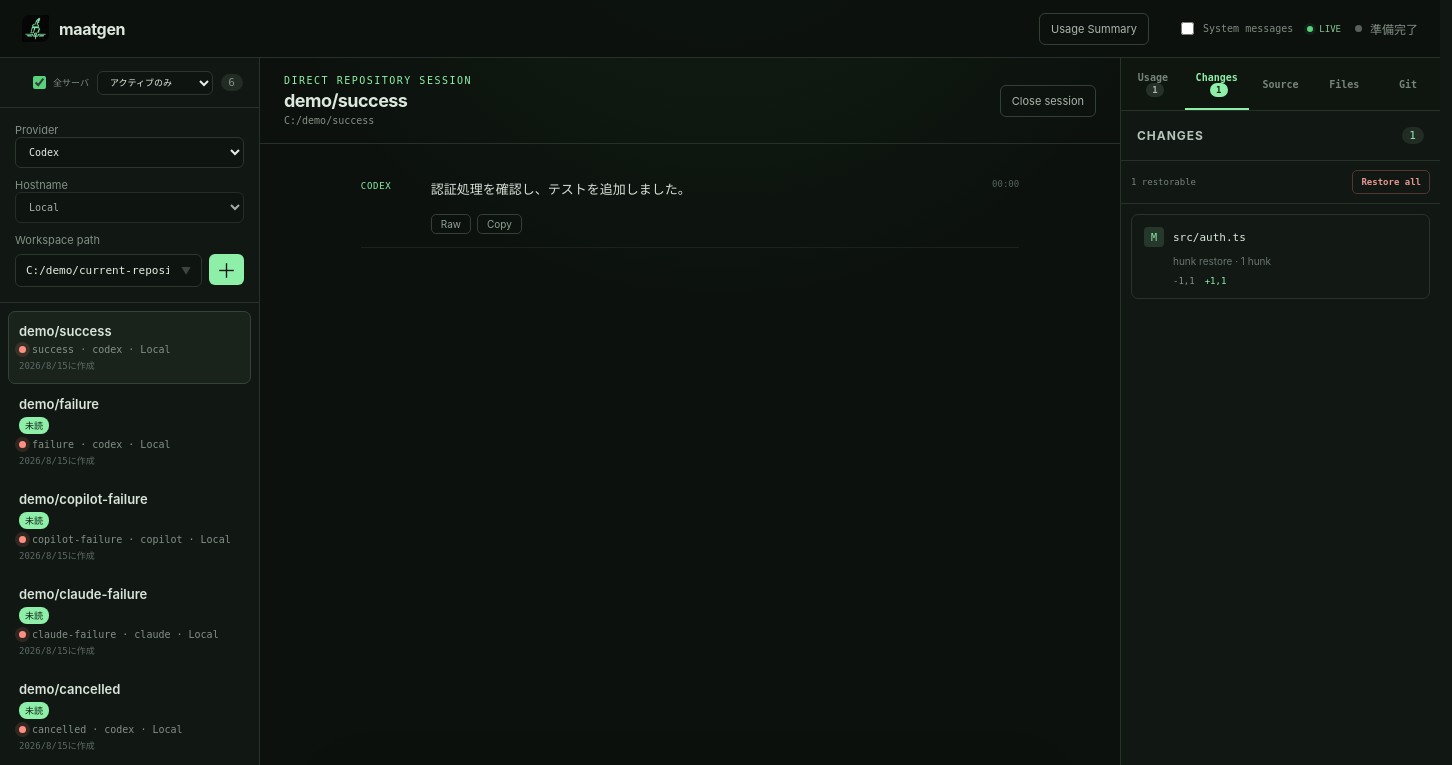
Scenario: App with MockAgentApi › shows a file tree in the Files tab and renders markdown files in the center pane
The width and height of the screenshot is (1452, 765).
Click the tab with id "files-tab". click: (1344, 84)
box: [1312,58,1376,110]
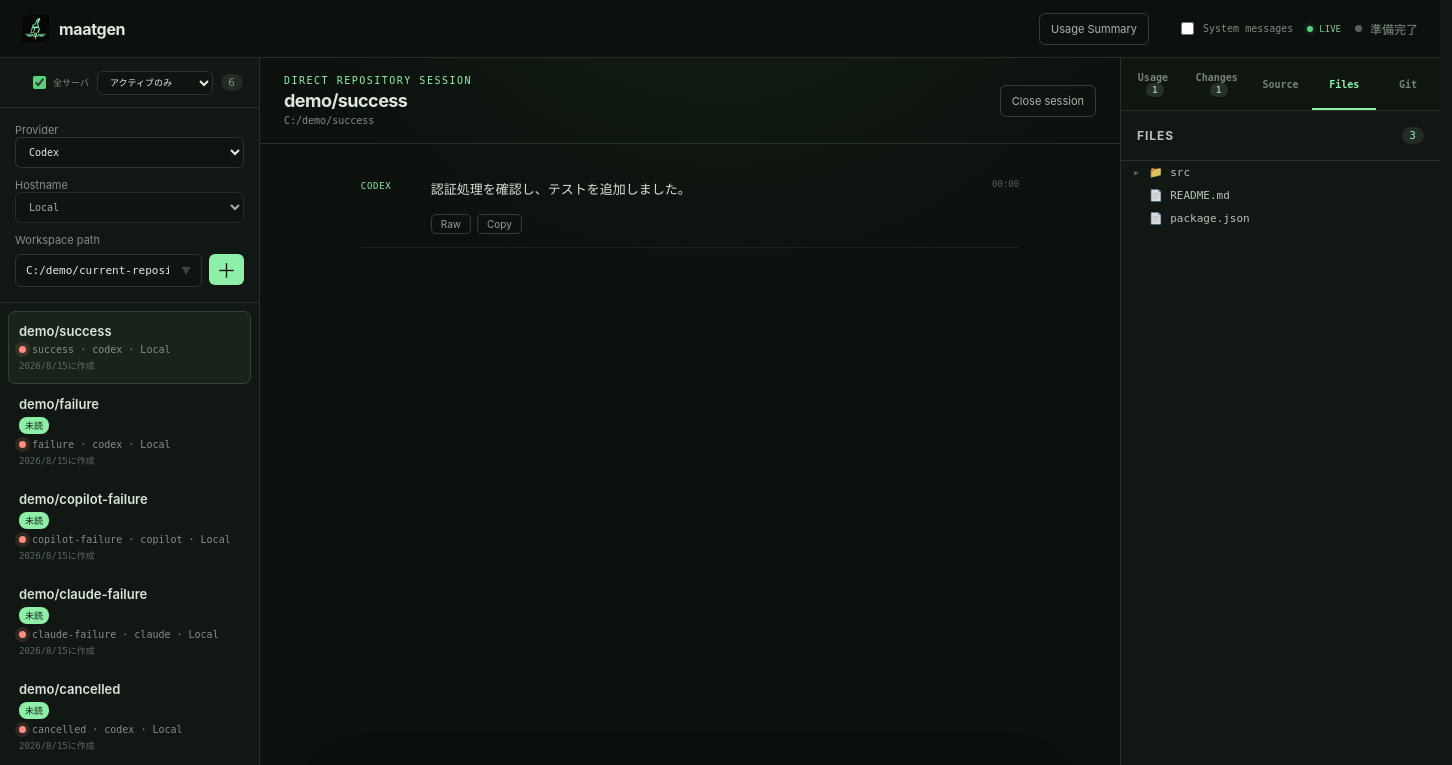
Expected: the panel with id "files-panel" is shown, [1121,111,1440,250]
Expected: the list with class "file-tree" shows "README.md"
Click the button with class "file-tree-file" showing "📄 README.md". click: (1200, 196)
box: [1127,184,1434,207]
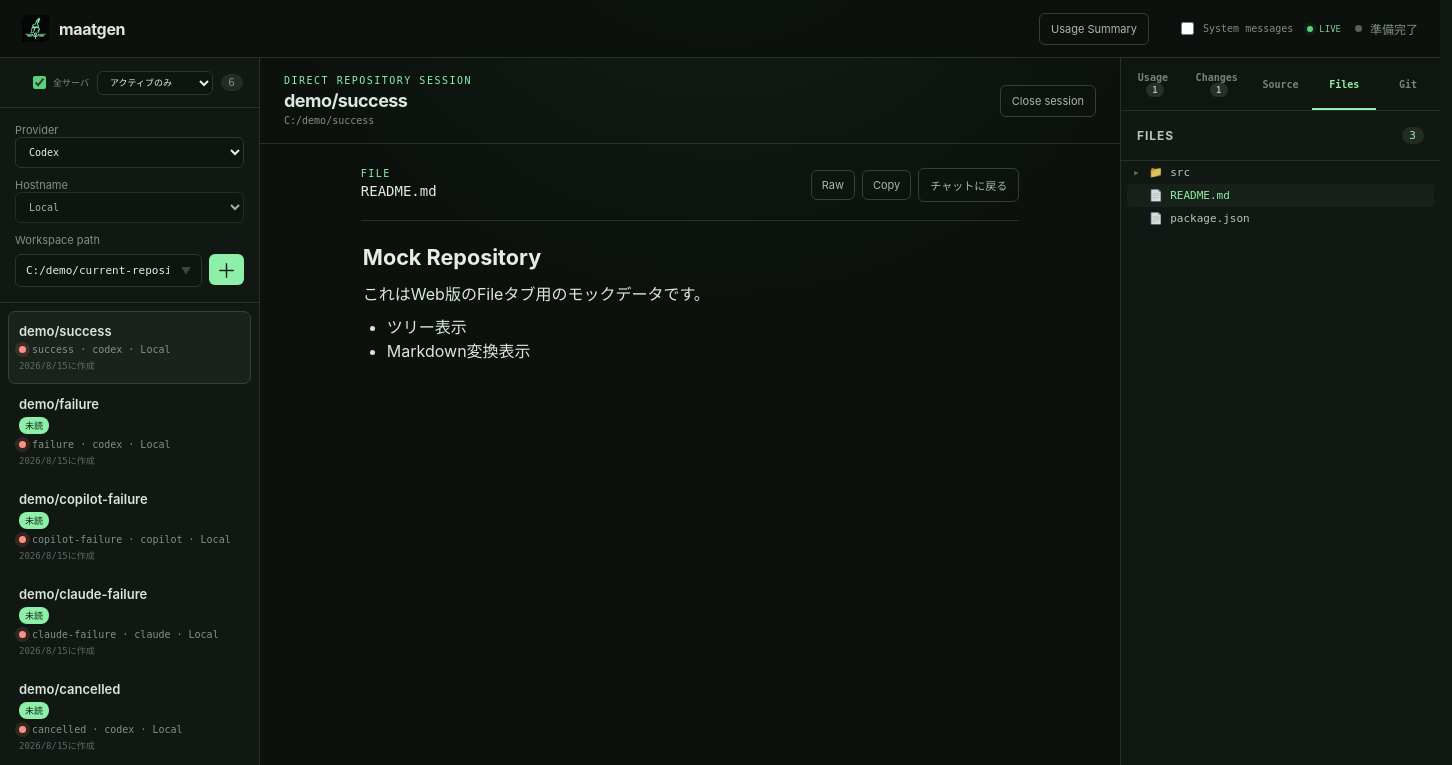
Expected: the element with class "file-view" is shown, [361,168,1019,361]
Click the button "チャットに戻る". click: (969, 185)
box: [918,168,1019,202]
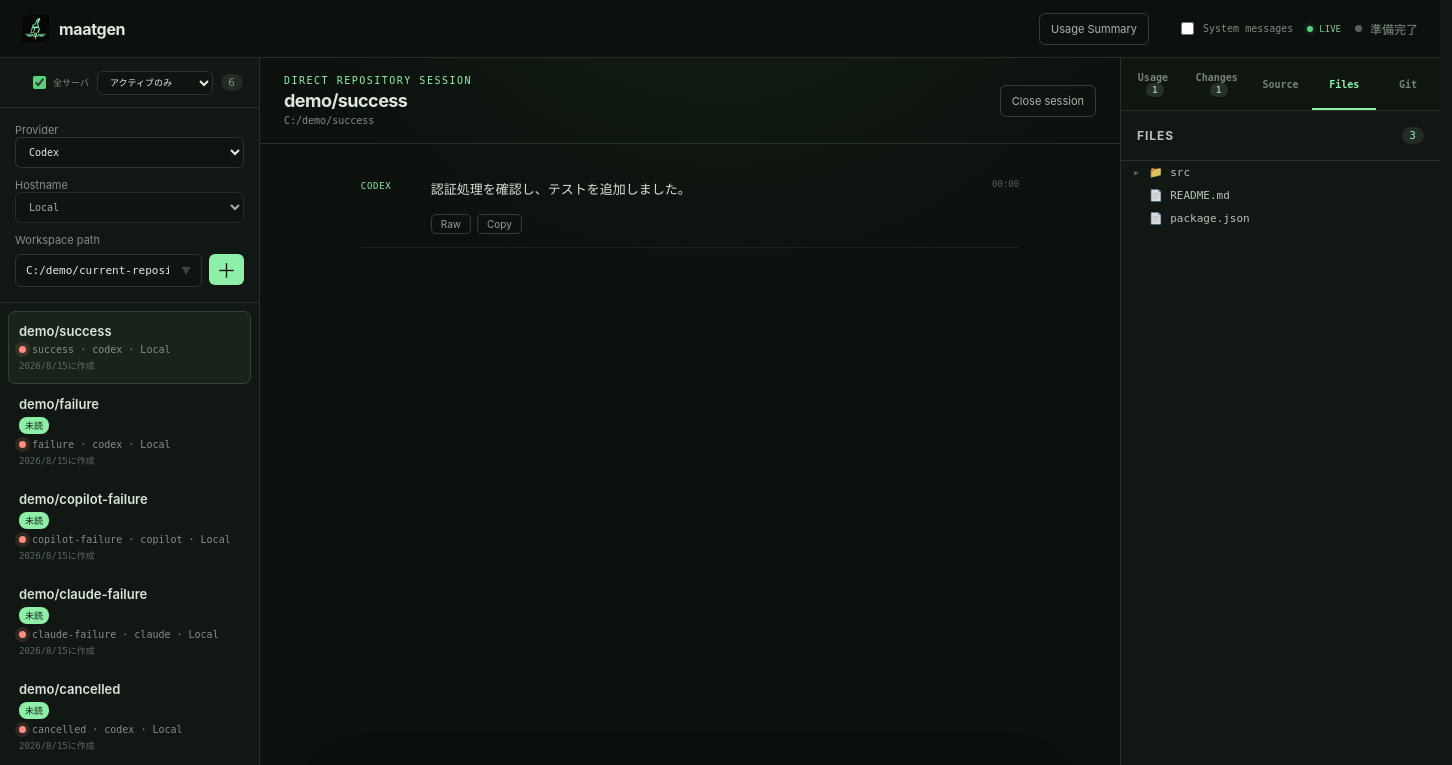
Expected: the element with class "timeline" is shown, [361,166,1019,248]
